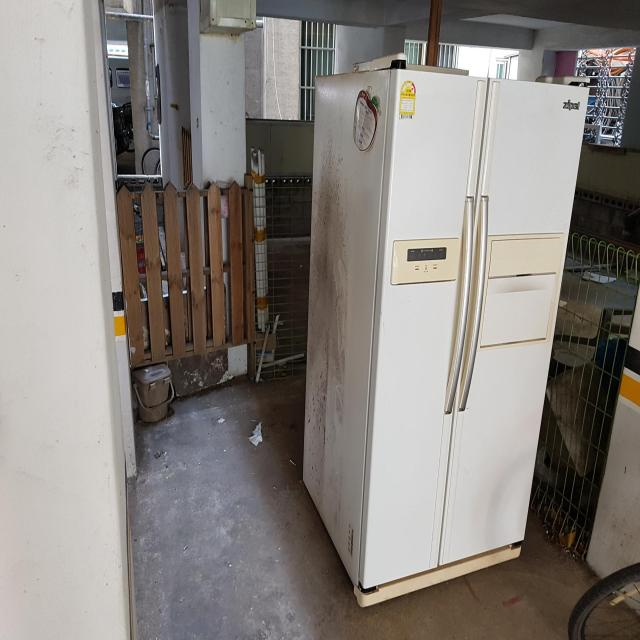refrigerator: (300, 48, 594, 614)
